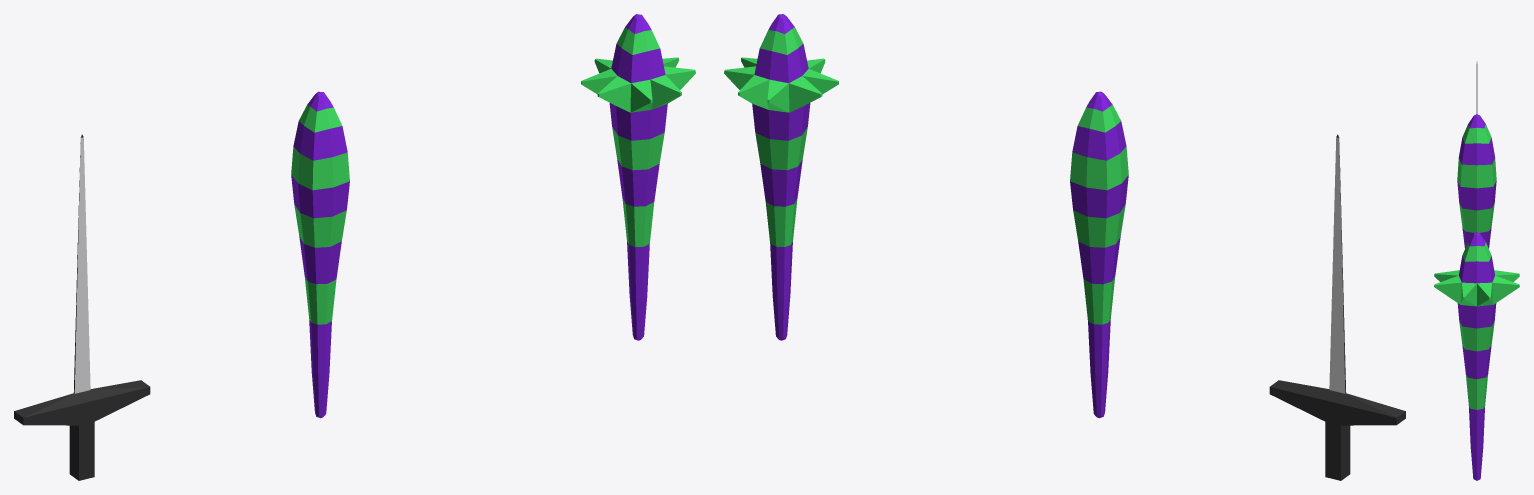
The model's file is Medieval Weapons.fbx.
3 renders of one model, left to right at view 1: azimuth 30°, elevation 25°; view 2: azimuth 150°, elevation 25°; view 3: azimuth 270°, elevation 25°, orthographic. The views are drawn at different scales.
Visible parts, largest first — view 1: Club.001, Club, Sword; view 2: Club.001, Club, Sword; view 3: Club.001, Club.
Boxes of the visible parts, box(x1,y1,x2,y2) form: Club.001: box(581, 14, 695, 340); Club: box(291, 91, 349, 418); Sword: box(14, 134, 150, 480); Club.001: box(724, 14, 838, 340); Club: box(1070, 91, 1128, 418); Sword: box(1269, 134, 1405, 480); Club.001: box(1434, 232, 1519, 480); Club: box(1457, 114, 1496, 248).
Bounding box in the file's own units: 421 × 206 × 61.39.
